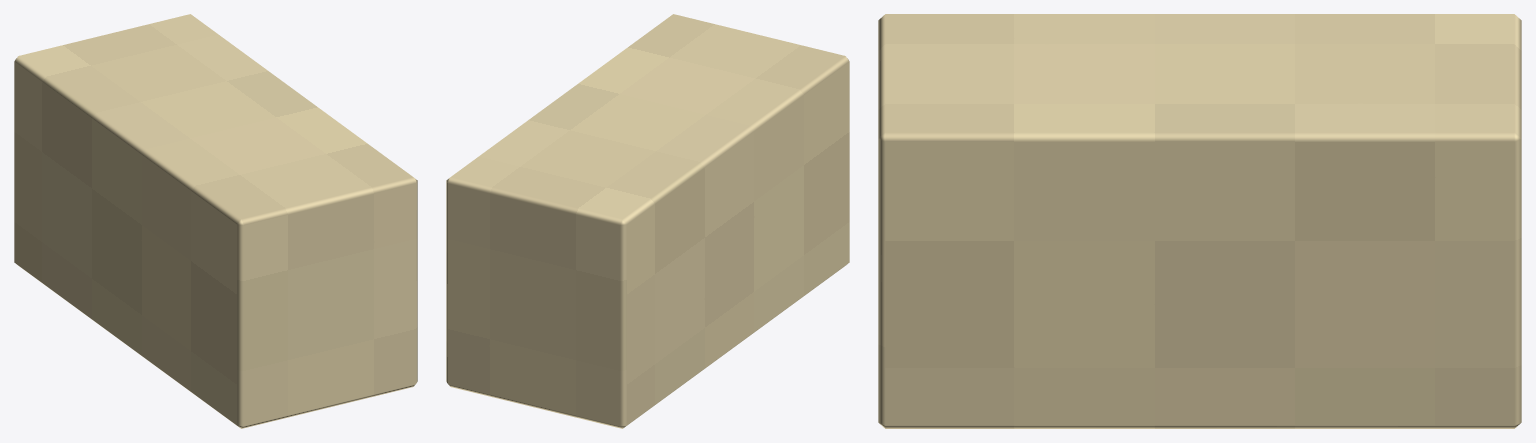
Rendered from Paper-wrap.glb.
The picture shows the model from 3 angles, left to right: view 1: azimuth 30°, elevation 25°; view 2: azimuth 150°, elevation 25°; view 3: azimuth 270°, elevation 25°; orthographic projection. The views are drawn at different scales.
Visible parts, largest first — view 1: Paper-wrap; view 2: Paper-wrap; view 3: Paper-wrap.
Boxes of the visible parts, x1,y1,x2,y2 form: Paper-wrap: (14, 14, 417, 428); Paper-wrap: (446, 14, 849, 428); Paper-wrap: (878, 14, 1521, 428).
Bounding box in the file's own units: 0.082 × 0.091 × 0.179.
1 material, 1 textured.
